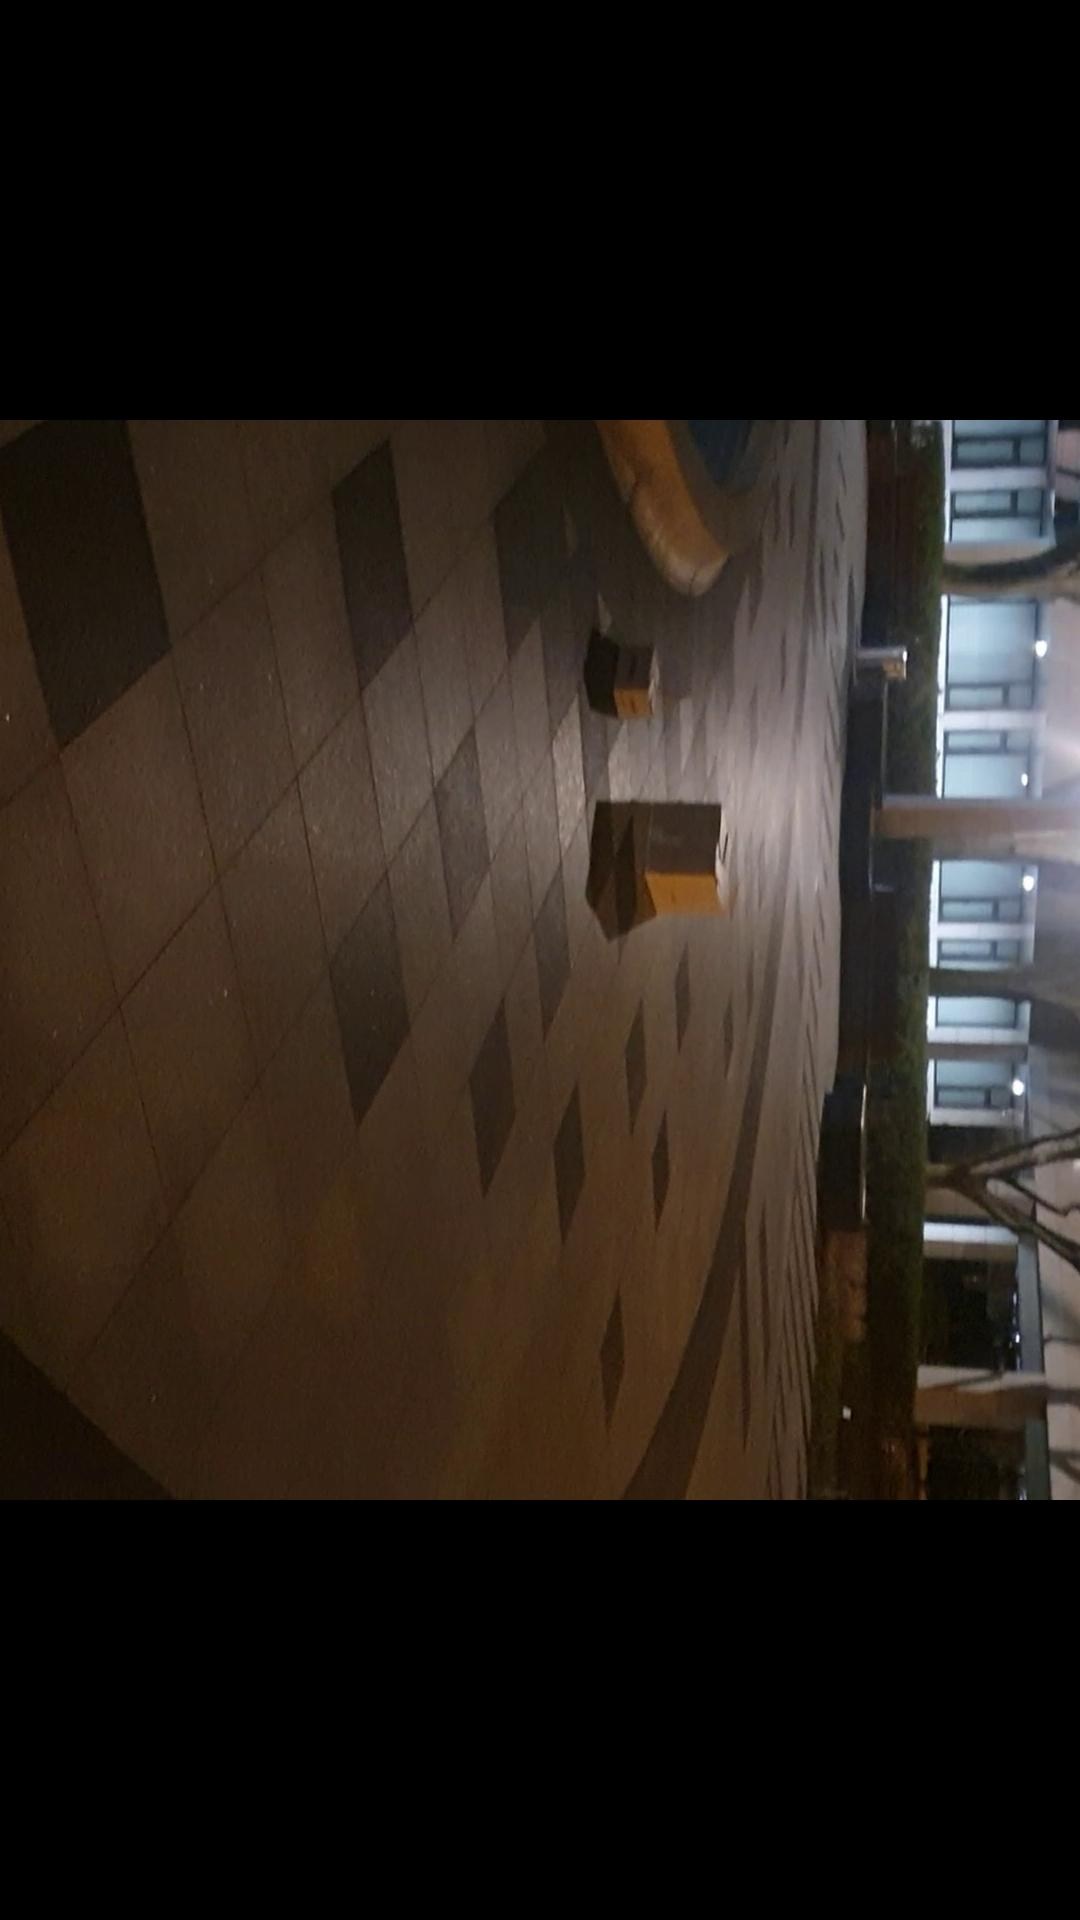Box: (630, 803, 737, 924), (605, 646, 667, 728)
